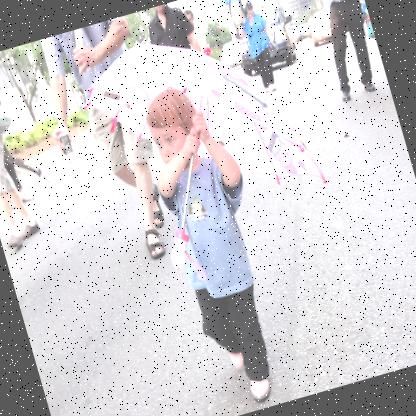Car: (210, 0, 354, 83)
